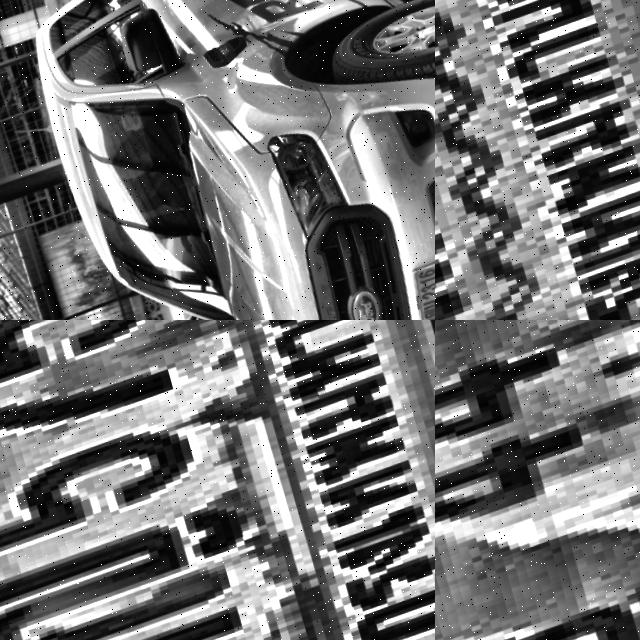license-plate: (0, 320, 435, 640), (435, 0, 640, 320), (435, 320, 640, 640), (398, 258, 435, 320)
